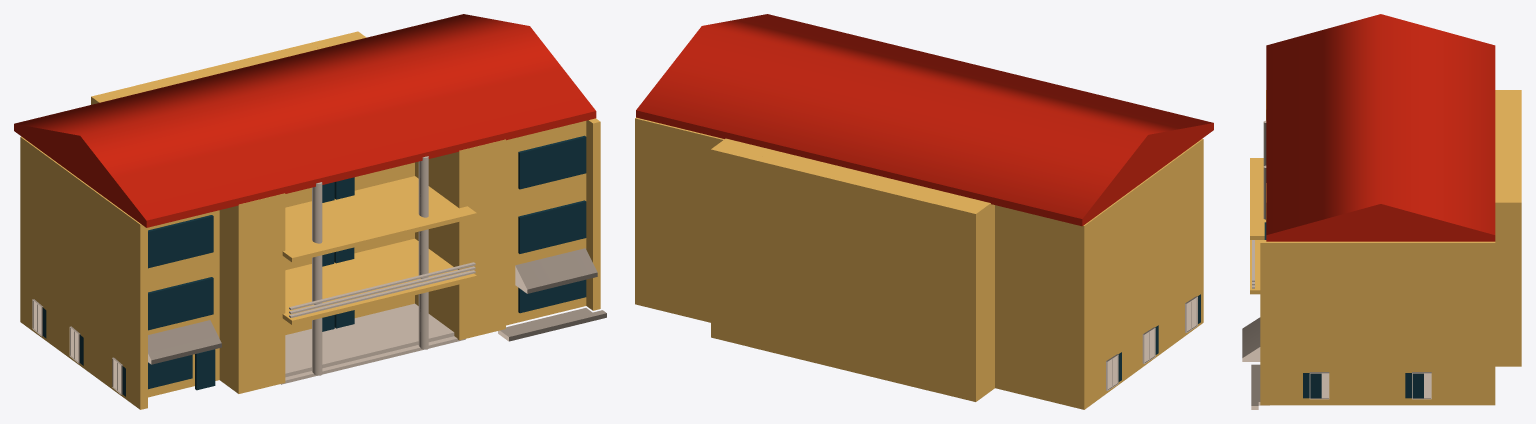
3 renders of one model, left to right at view 1: azimuth 30°, elevation 25°; view 2: azimuth 150°, elevation 25°; view 3: azimuth 270°, elevation 25°, orthographic. The views are drawn at different scales.
Parts seen in each view (by area): view 1: C02, C00, C01, C03, C04; view 2: C02, C00, C03; view 3: C00, C02, C03, C01, C04.
Part boxes in pixels (x1,y1,x2,y2): C02: (20, 31, 600, 409); C00: (14, 14, 596, 227); C01: (43, 135, 586, 396); C03: (32, 156, 597, 394); C04: (281, 303, 606, 384); C02: (635, 117, 1203, 409); C00: (636, 14, 1213, 226); C03: (1106, 296, 1197, 390); C00: (1266, 14, 1495, 241); C02: (1250, 90, 1521, 405); C03: (1242, 120, 1431, 399); C01: (1264, 222, 1423, 398); C04: (1251, 364, 1269, 409).
Bounding box in the file's own units: 9936 × 4919 × 6070.
